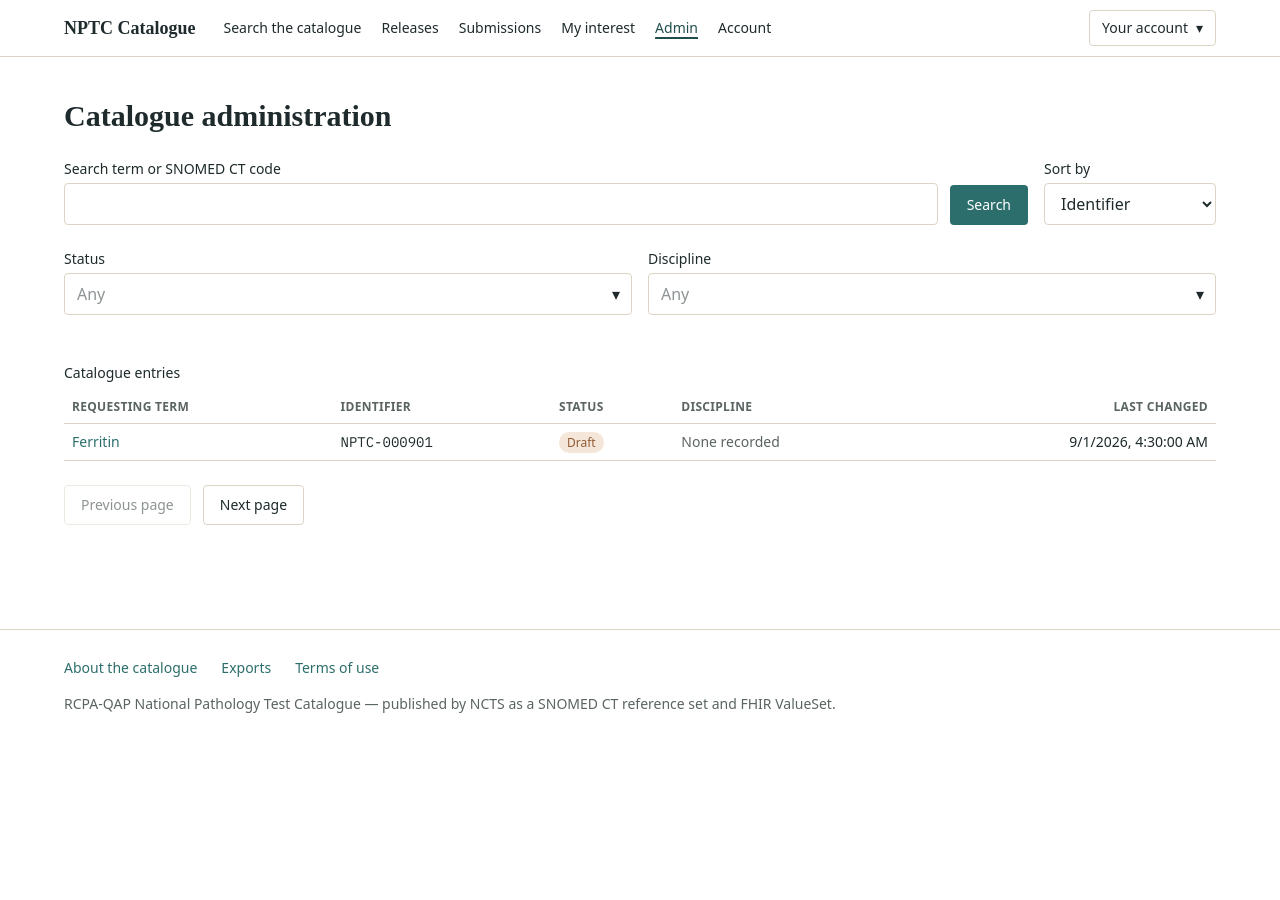
Scenario: AdminCatalogueListPage › paging › returns to the first page from Previous, dropping the cursor from the URL
expect the link "Ferritin" is shown: met, box [72,432,120,452]
Click the button "Next page".
click(253, 504)  # box [203,484,304,524]
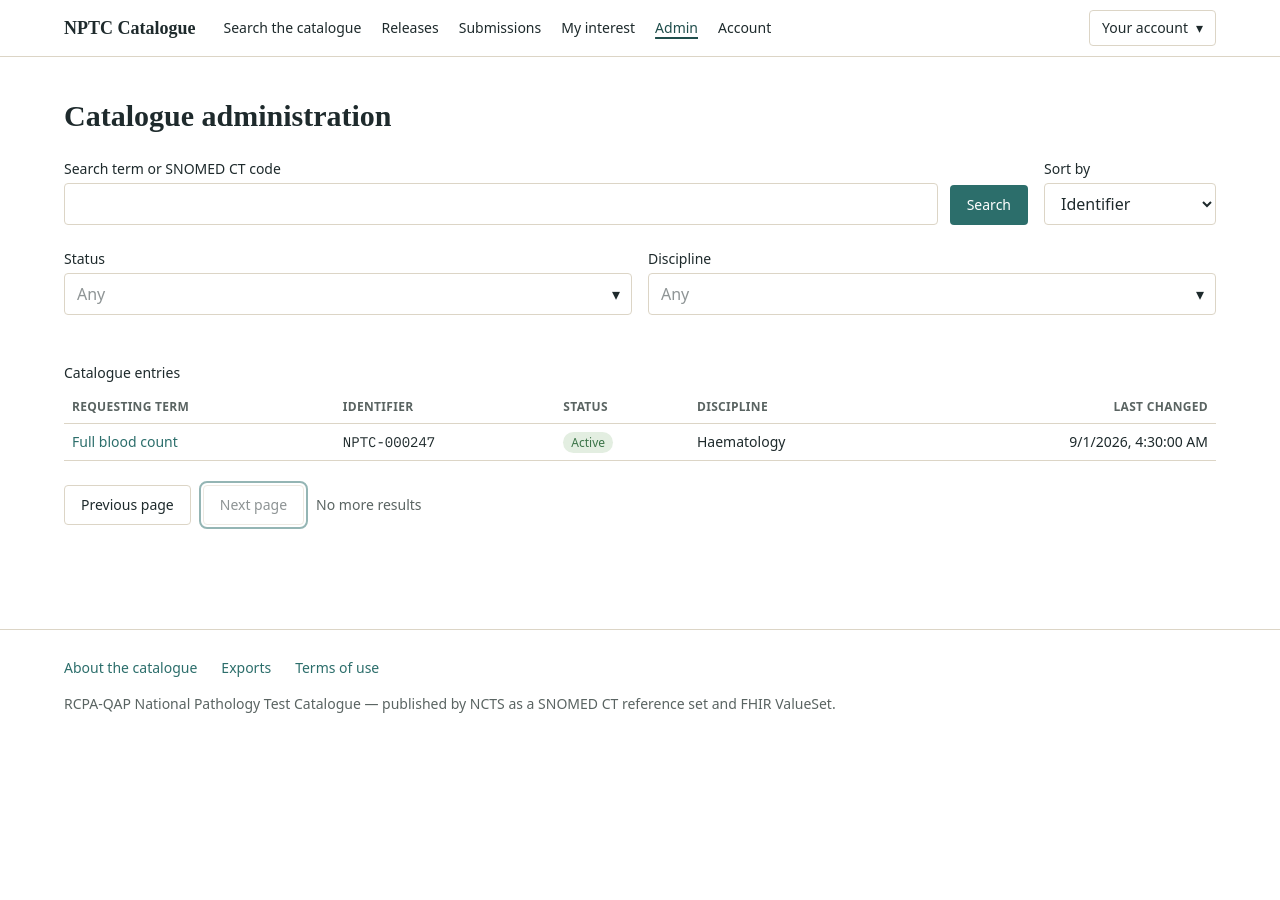
expect the link "Full blood count" is shown: met, box [72,432,178,452]
Click the button "Previous page".
click(127, 504)  # box [64,484,191,524]
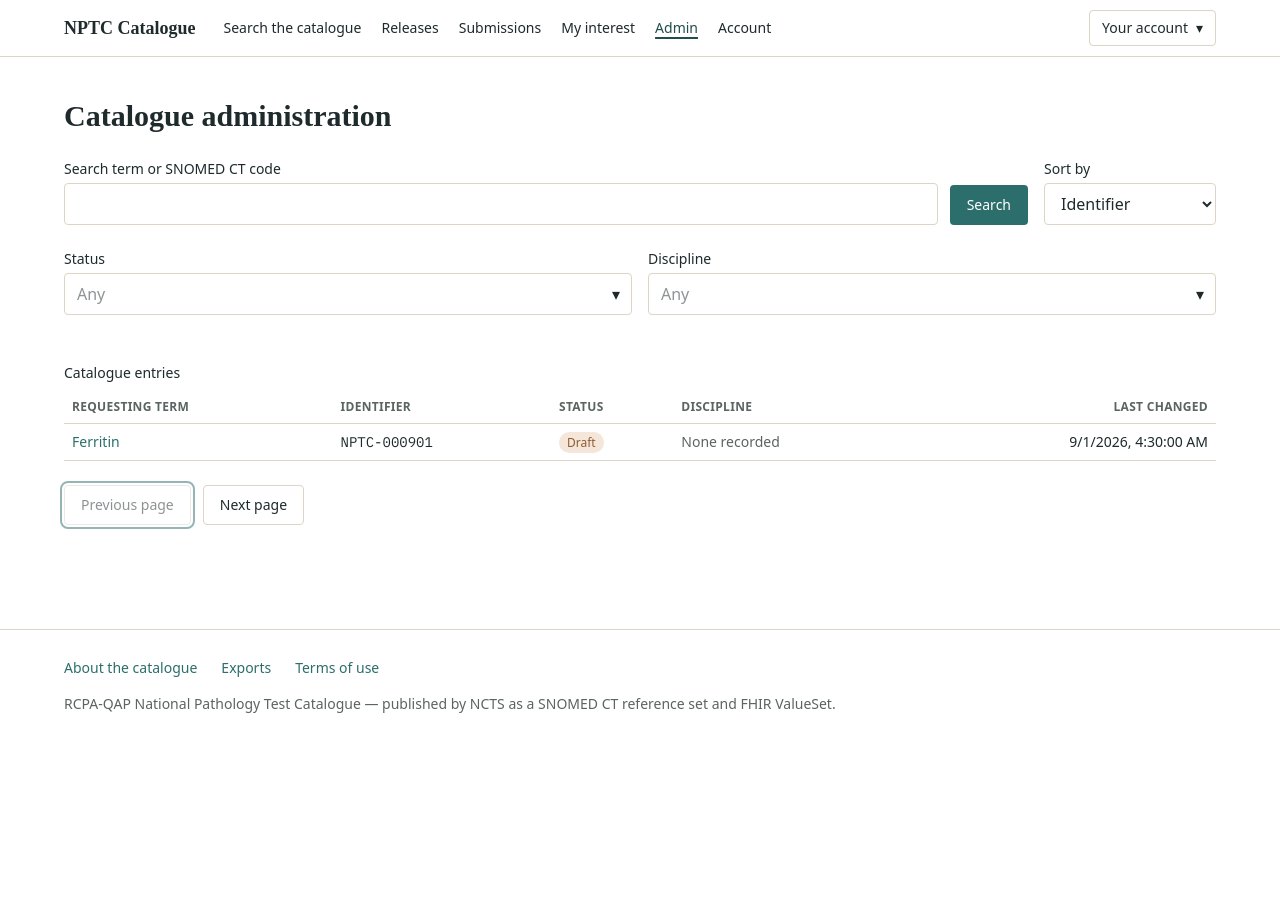
expect the link "Ferritin" is shown: met, box [72,432,120,452]
